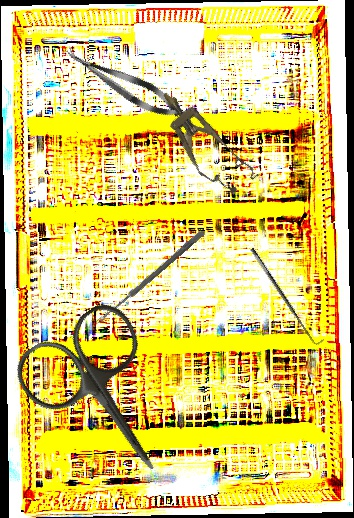Hook Surgical: (248, 242, 326, 350)
Iris Scissors: (5, 294, 206, 505)
Micro Scissor: (59, 40, 187, 126)
Speculum: (146, 78, 261, 205)
Surgical Spoon: (94, 228, 206, 327)
